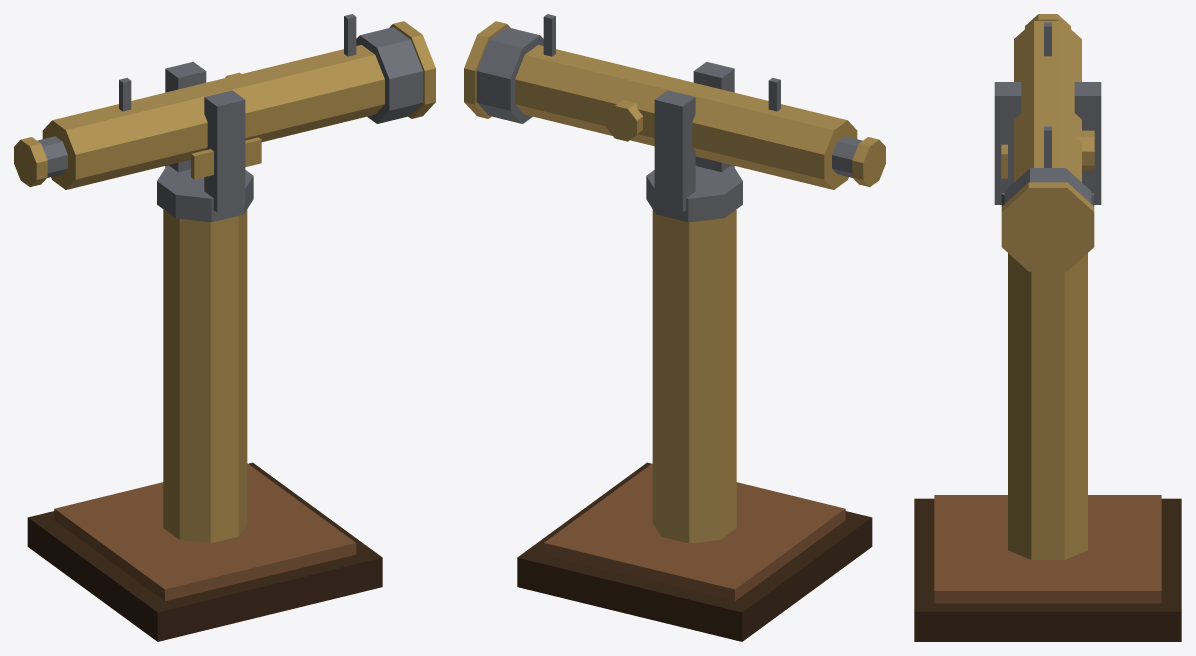
Rendered from SN_Nav_Spyglass.glb.
3 renders of one model, left to right at view 1: azimuth 30°, elevation 25°; view 2: azimuth 150°, elevation 25°; view 3: azimuth 270°, elevation 25°, orthographic. The views are drawn at different scales.
Visible parts, largest first — view 1: SN_Nav_Spyglass; view 2: SN_Nav_Spyglass; view 3: SN_Nav_Spyglass.
Part boxes in pixels (bbox=[...]): SN_Nav_Spyglass: bbox=[14, 14, 435, 641]; SN_Nav_Spyglass: bbox=[464, 14, 885, 641]; SN_Nav_Spyglass: bbox=[914, 14, 1181, 641].
Size of the model in its own units: 1.38 by 1.75 by 0.8.
